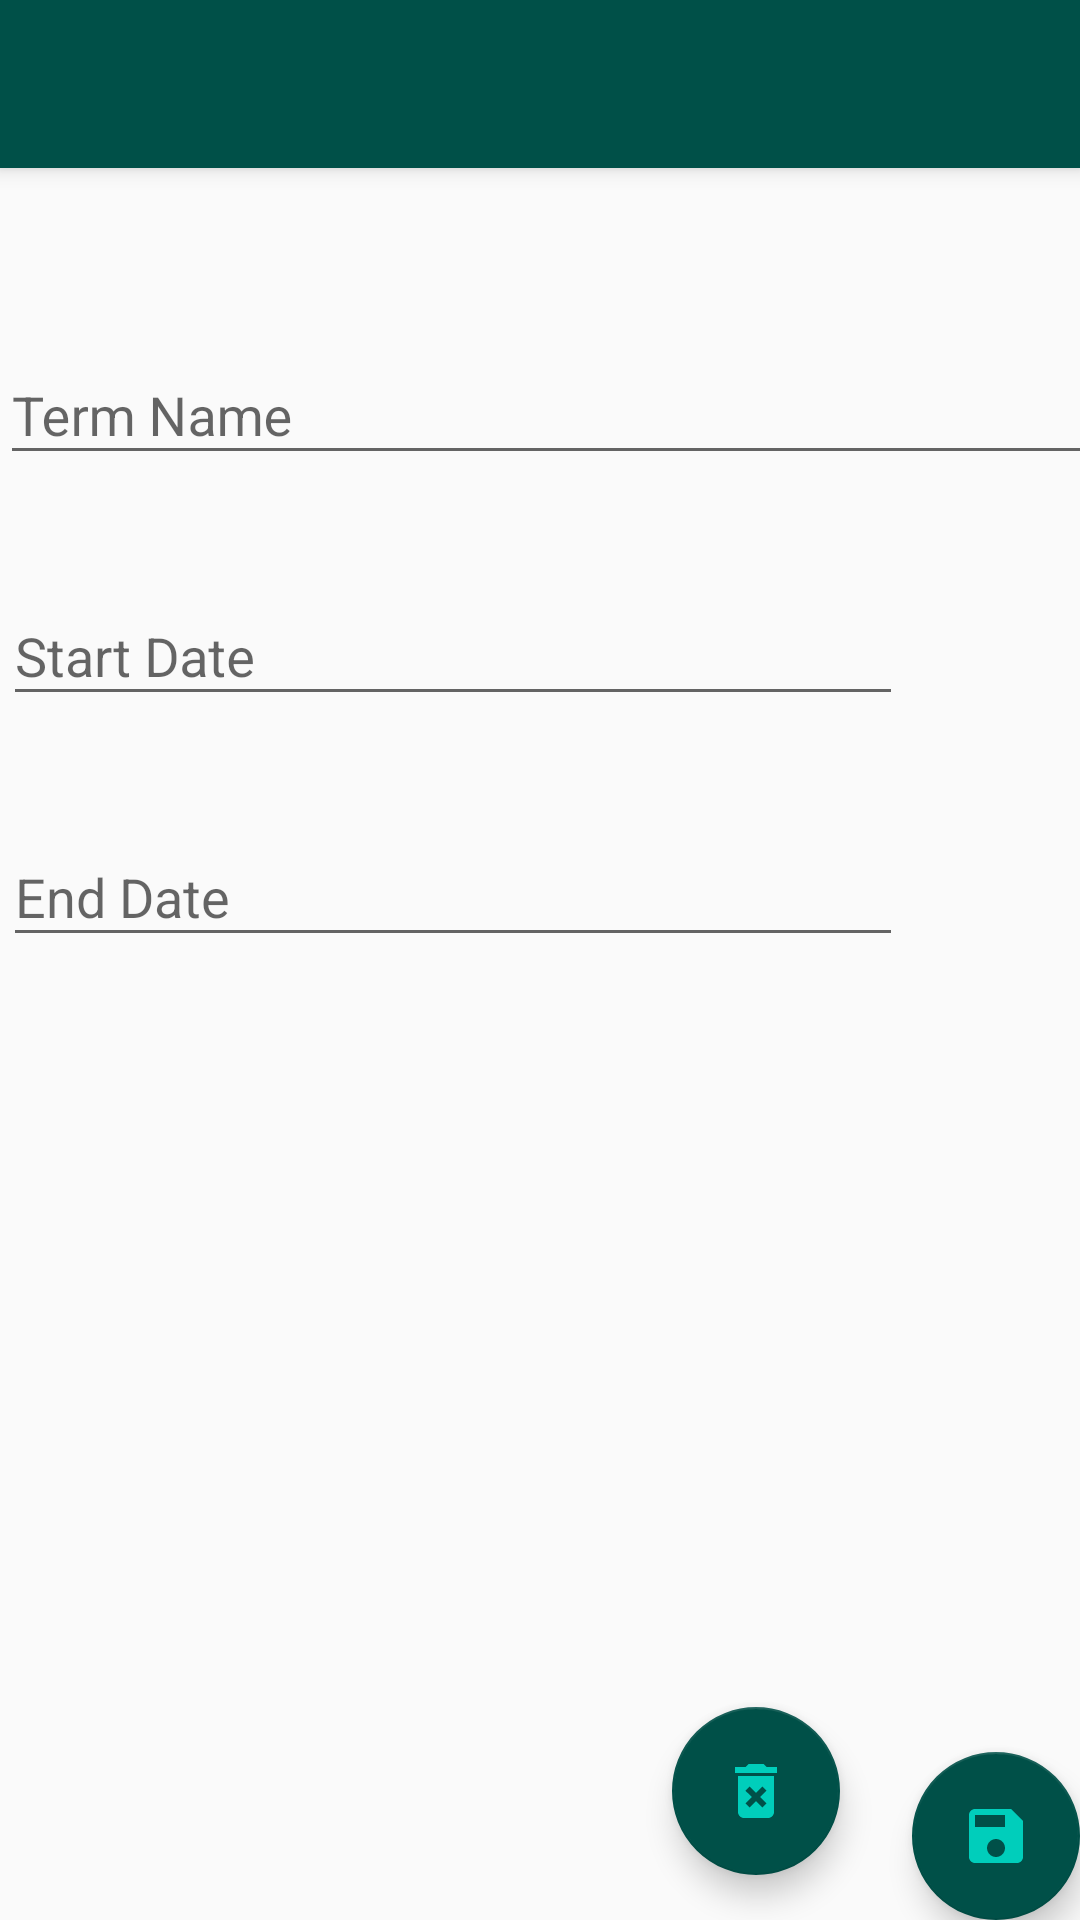

Locate icon controls on the screen. Image size 1080x1920, boxes as {"x1": x1, "y1": y1, "x2": x2, "y2": y2}.
delete forever: {"x1": 672, "y1": 1707, "x2": 840, "y2": 1875}
save: {"x1": 912, "y1": 1752, "x2": 1080, "y2": 1920}
